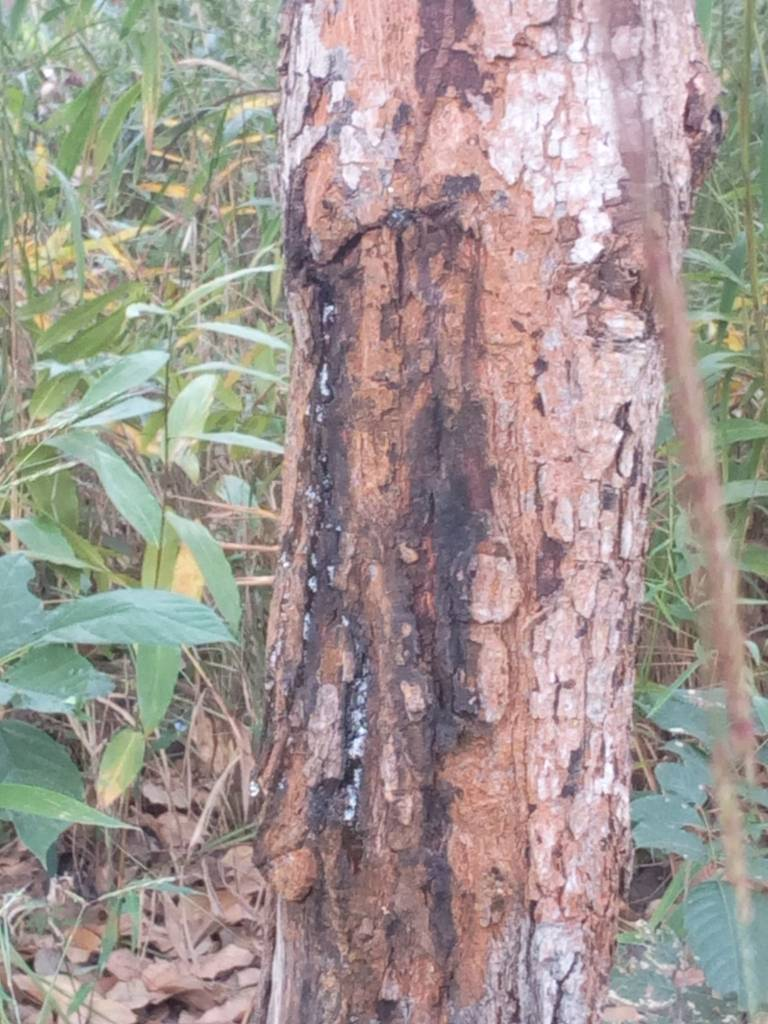Gommose: (286, 199, 508, 907)
